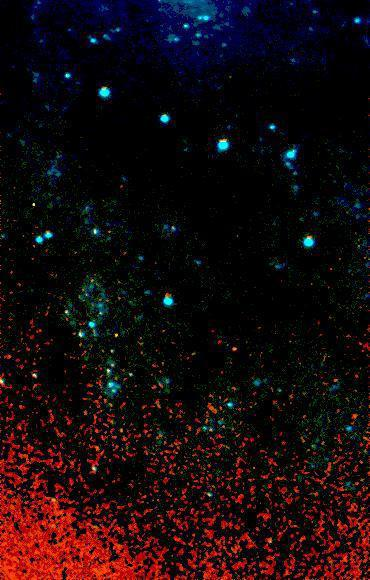star: (339, 401, 369, 431)
